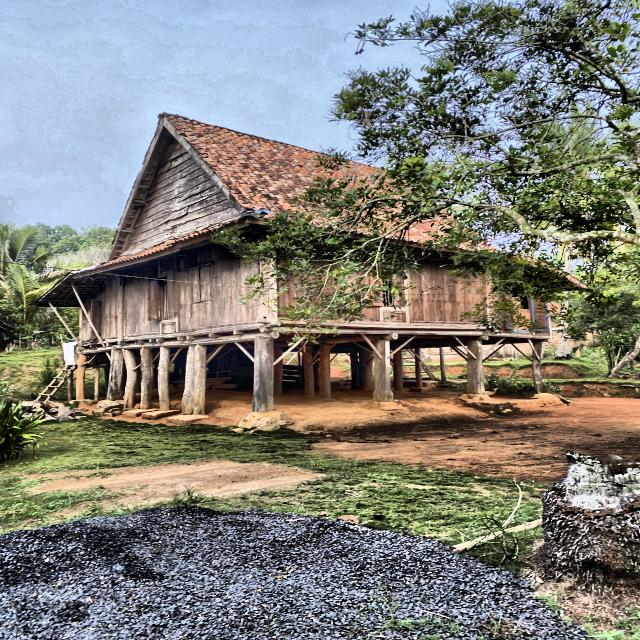column: (182, 346, 206, 416), (252, 337, 274, 413), (373, 339, 393, 402), (466, 340, 485, 394), (107, 349, 125, 401), (122, 349, 137, 409), (157, 346, 170, 411), (141, 349, 153, 410), (532, 342, 544, 393), (76, 354, 87, 400), (415, 348, 423, 388), (439, 347, 446, 383), (95, 367, 99, 400)
roof: (30, 112, 503, 308)
wall: (79, 232, 553, 341)
window: (369, 265, 408, 307), (147, 274, 176, 322), (190, 264, 212, 304)
